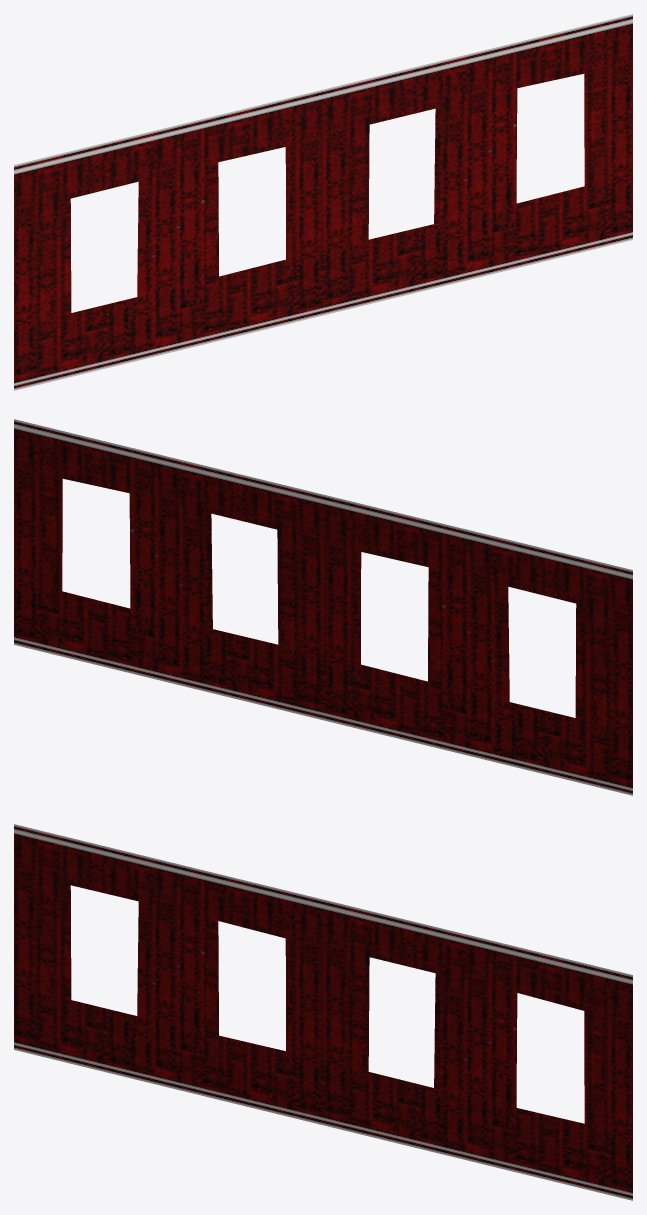
Rendered from W_AI3_ffff_2104.glb.
3 renders of one model, top to bottom at view 1: azimuth 30°, elevation 25°; view 2: azimuth 150°, elevation 25°; view 3: azimuth 330°, elevation 25°, orthographic.
Visible parts, largest first — view 1: polySurfaceShape772; view 2: polySurfaceShape772; view 3: polySurfaceShape772.
Part boxes in pixels (left/top/right/bottom): polySurfaceShape772: left=14, top=14, right=632, bottom=390; polySurfaceShape772: left=14, top=419, right=632, bottom=795; polySurfaceShape772: left=14, top=824, right=632, bottom=1200.
Size of the model in its own units: 1 by 0.3486 by 1.52e-08.
Materials: 1 (1 with a texture image).
